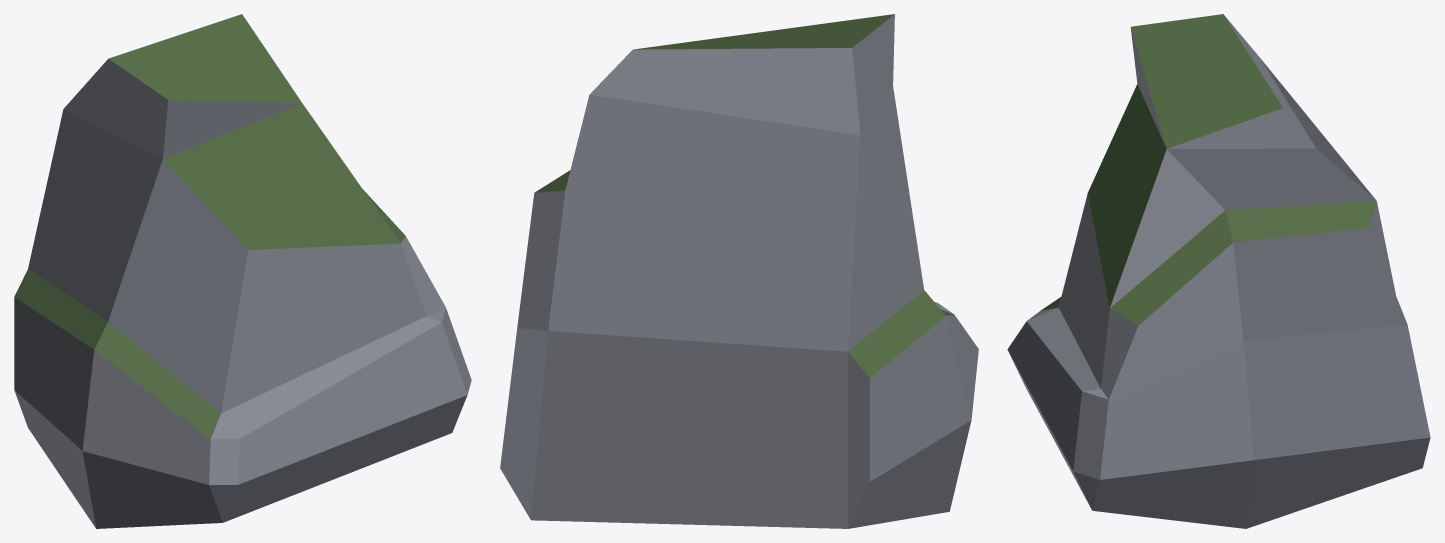
Rendered from Blends_Rock_Moss_2.glb.
3 renders of one model, left to right at view 1: azimuth 30°, elevation 25°; view 2: azimuth 150°, elevation 25°; view 3: azimuth 270°, elevation 25°, orthographic. The views are drawn at different scales.
Parts seen in each view (by area): view 1: Rock_Moss_2; view 2: Rock_Moss_2; view 3: Rock_Moss_2.
Boxes of the visible parts, x1=… form: Rock_Moss_2: x1=14, y1=14, x2=471, y2=528; Rock_Moss_2: x1=500, y1=14, x2=978, y2=528; Rock_Moss_2: x1=1007, y1=14, x2=1430, y2=528.
Size of the model in its own units: 0.6125 by 0.6918 by 0.6504.
